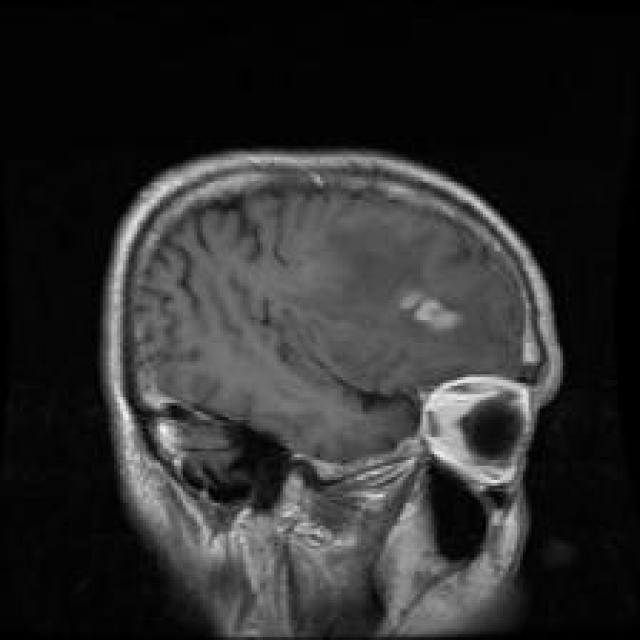glioma_tumor: (358, 258, 492, 353)
